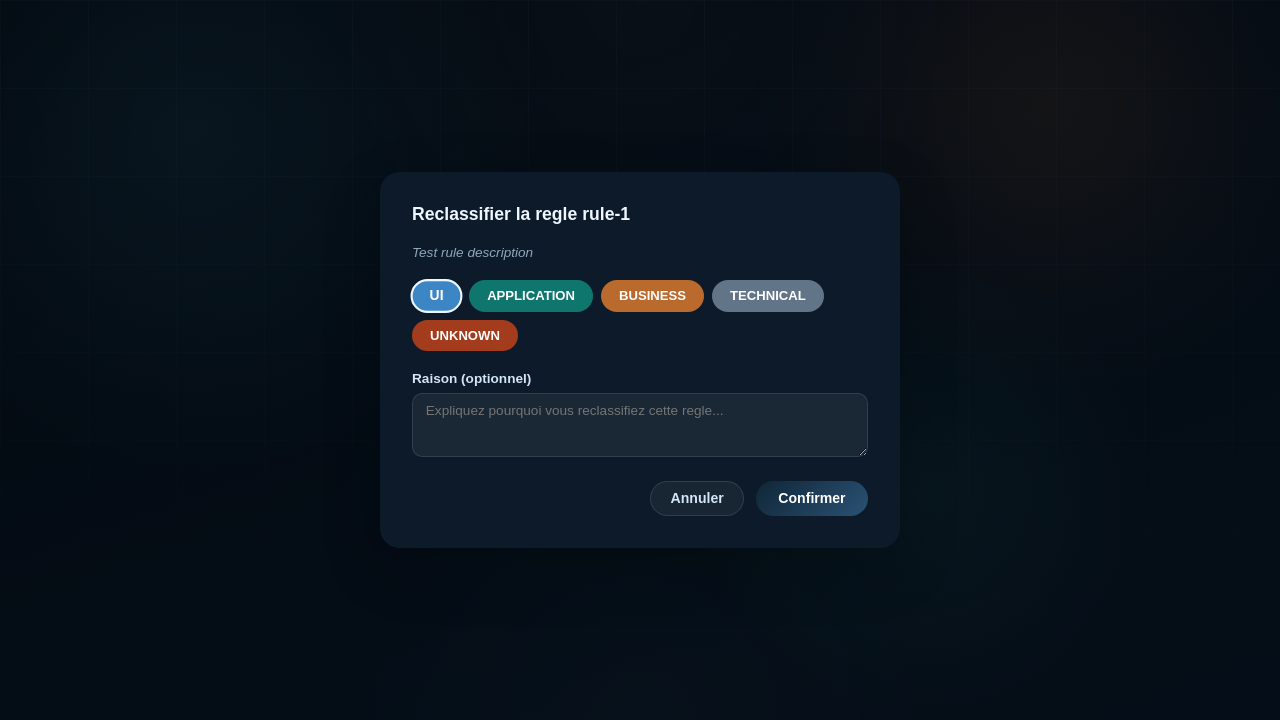
Scenario: ReclassifyModalComponent › should display generic error message on non-409 error
Click the button "Confirmer" at {"x": 812, "y": 498}, box [756,481,868,516]
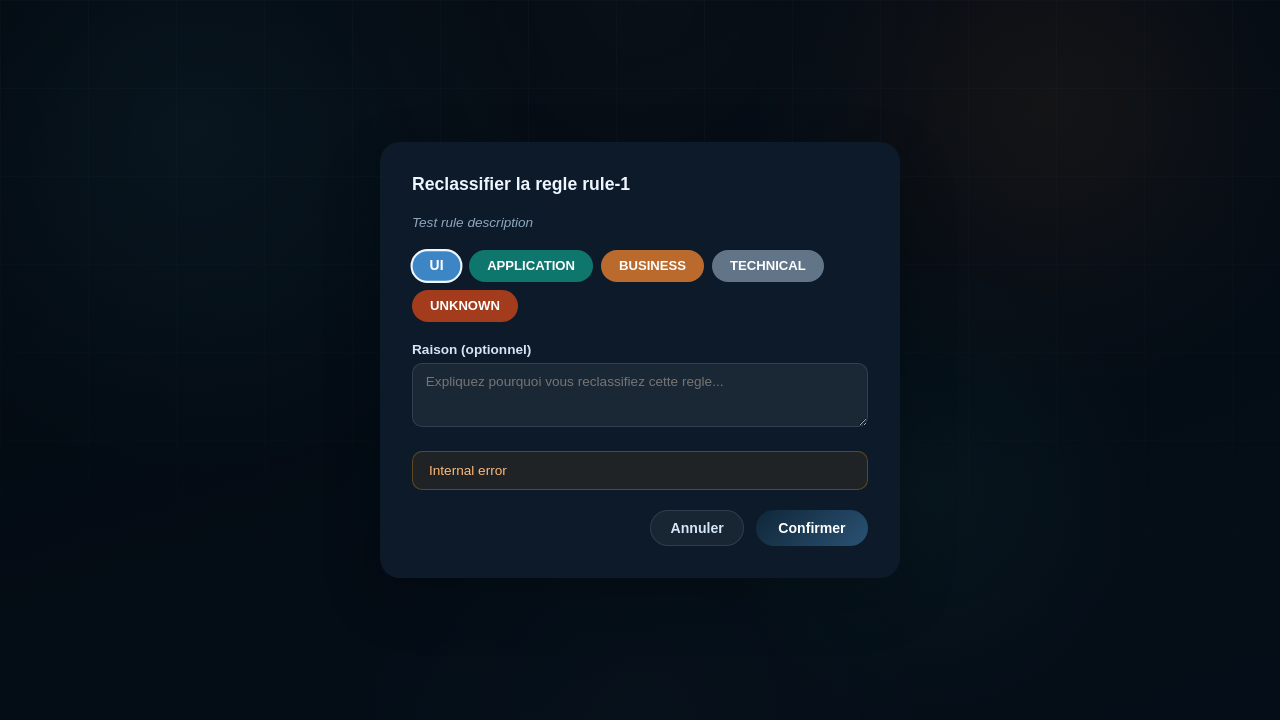
Expected: the message "Internal error" is shown, [412,451,868,490]
Expected: the message with class "error-generic" reads "Internal error", [429,463,507,478]
